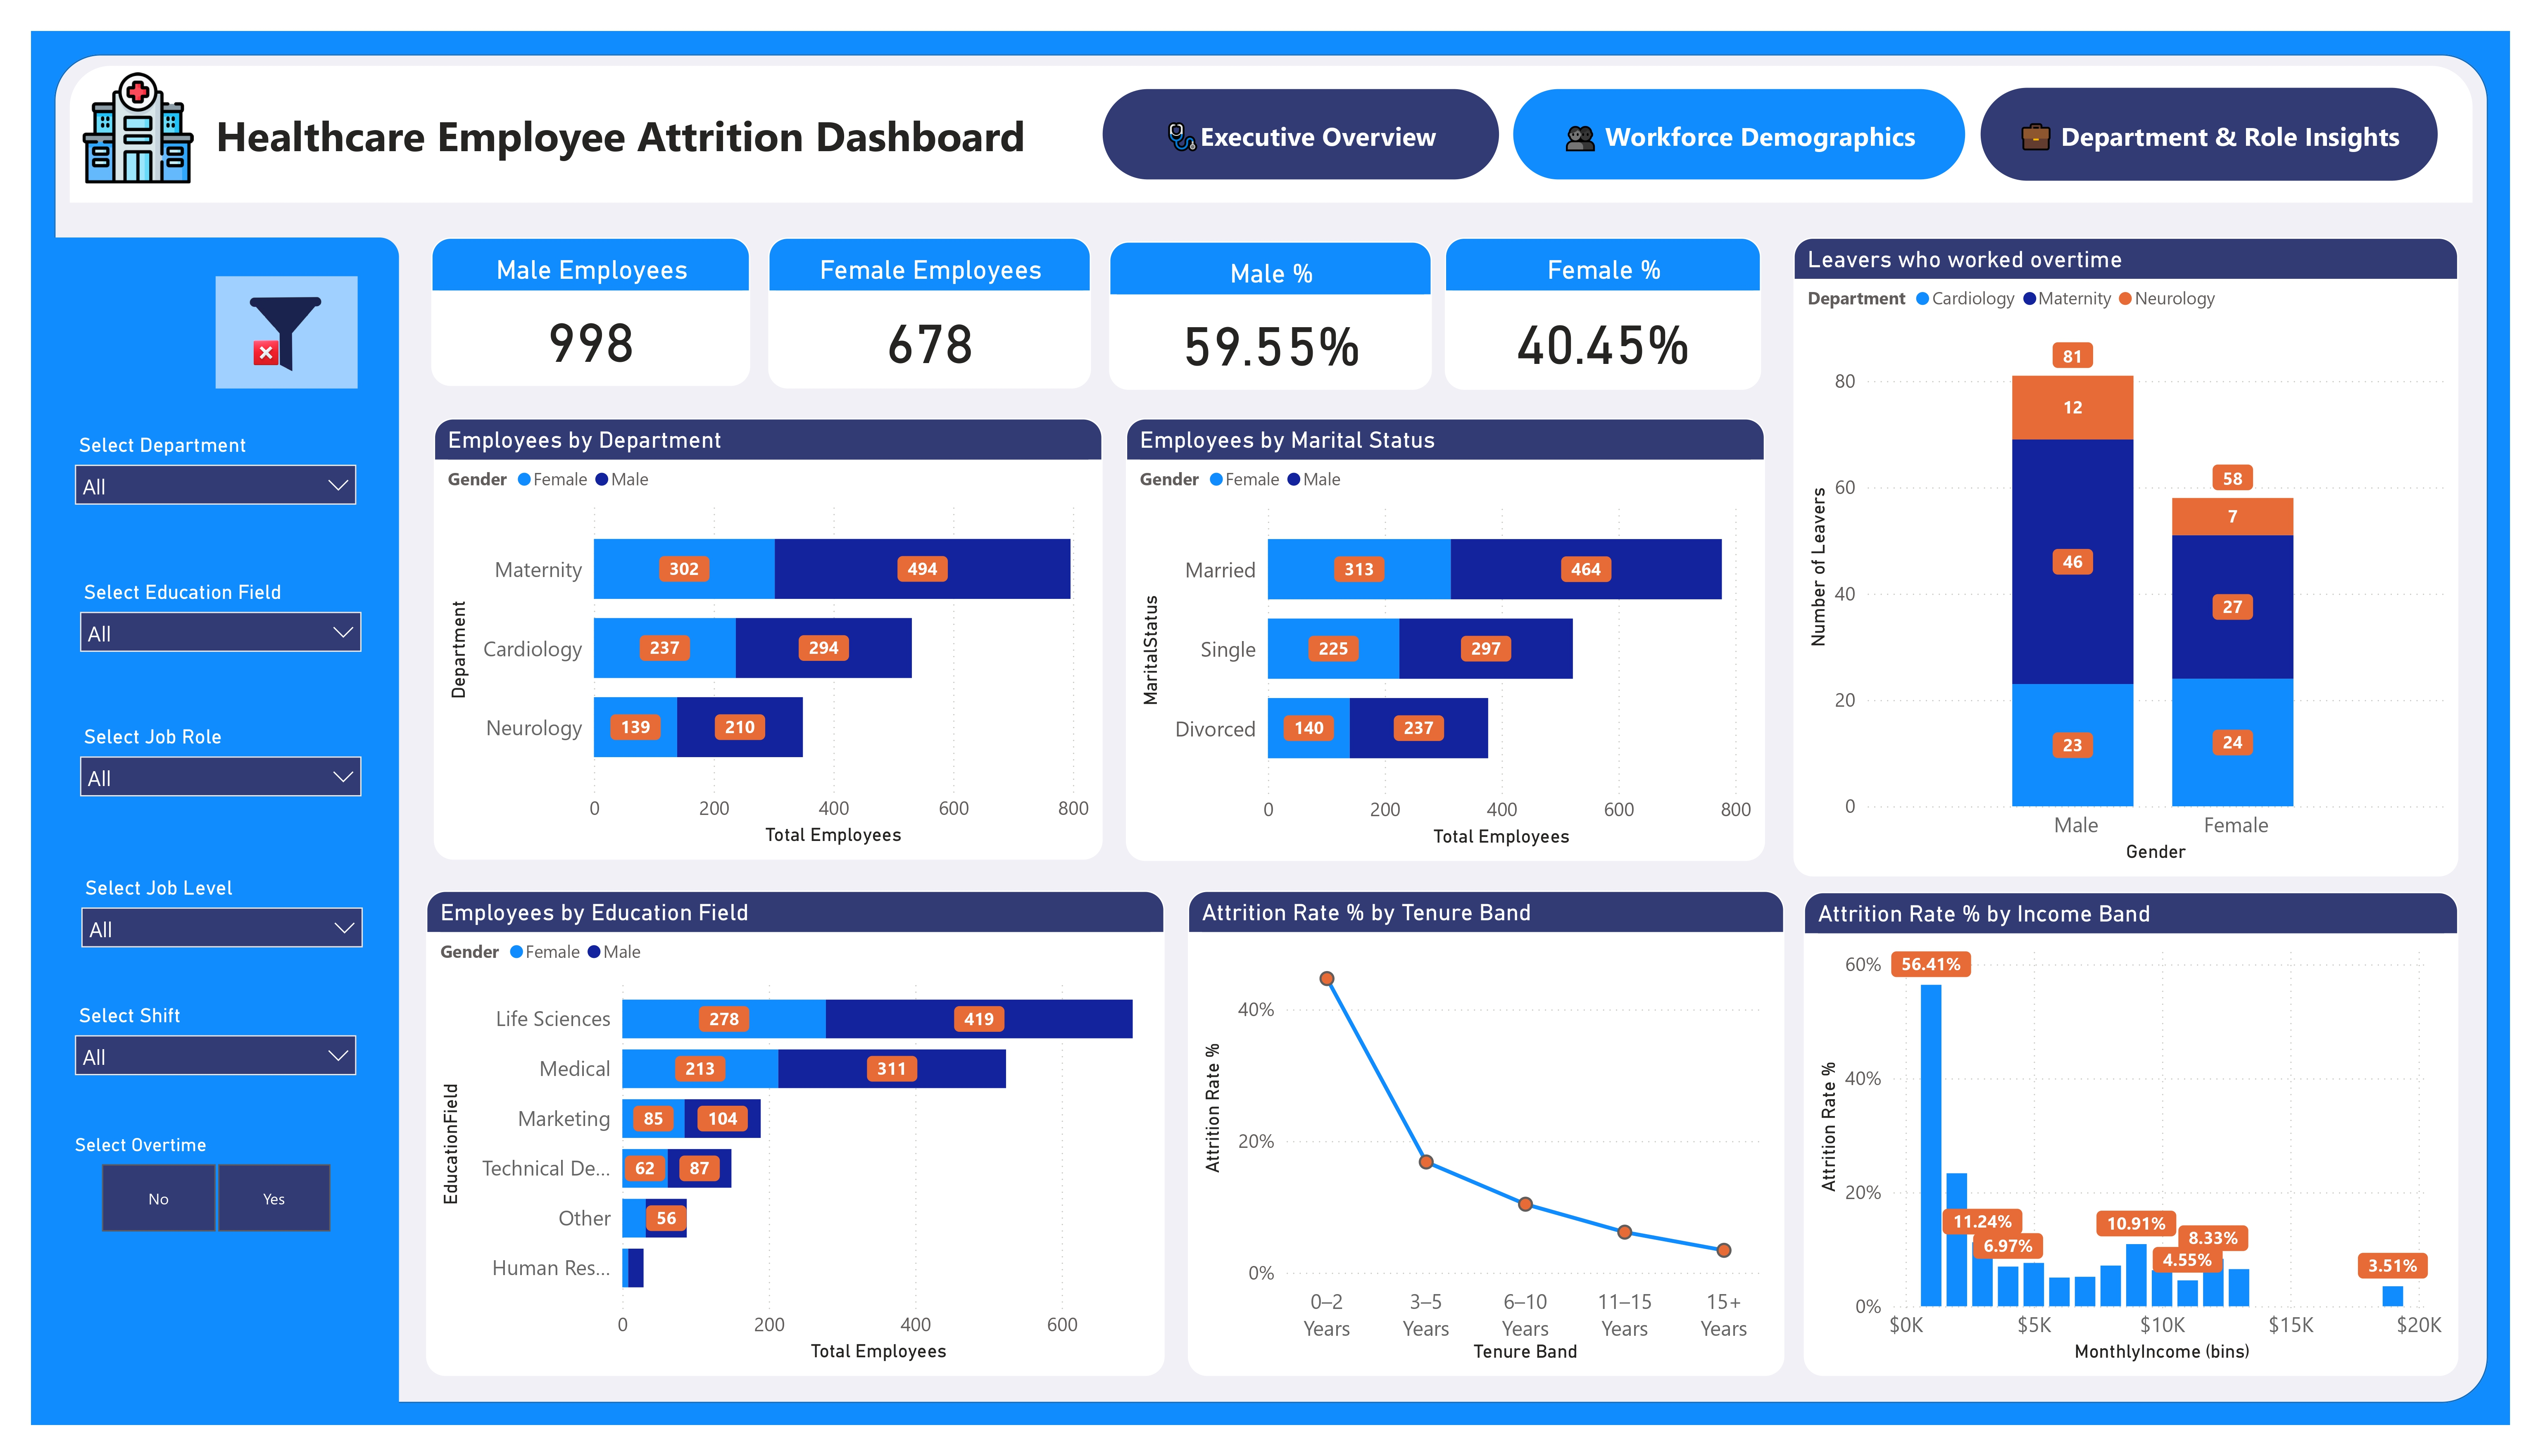

This screenshot's page, from the dashboard's own definition file:
{"tool":"powerbi","page":{"name":"Workforce Demographic","canvas":[1920,1080],"ordinal":1},"visuals":[{"type":"shape","box":[17.5,17.5,1885,1045],"z":0},{"type":"shape","box":[30,27.1,1861.4,105.7],"z":1000},{"type":"shape","box":[0,160,285,920],"z":2000},{"type":"card","title":"Male Employees","fields":{"Values":["Dim_Employee.Male Employees"]},"box":[310.1,160.5,247.2,114.9],"z":3000},{"type":"card","title":"Female Employees","fields":{"Values":["Dim_Employee.Female Employees"]},"box":[571.4,160,250,117.1],"z":4000},{"type":"card","title":"Male %","fields":{"Values":["Dim_Employee.Male %"]},"box":[835,162.5,250,115],"z":5000},{"type":"card","title":"Female %","fields":{"Values":["Dim_Employee.Female %"]},"box":[1095,160,245,117.5],"z":6000},{"type":"barChart","title":"Employees by Department","fields":{"Category":["Dim_Employee.Department"],"Series":["Dim_Employee.Gender"],"Y":["Fact_EmployeeAttrition.Total Employees"]},"box":[312,300,518,342],"z":7000},{"type":"barChart","title":"Employees by Marital Status","fields":{"Category":["Dim_Employee.MaritalStatus"],"Series":["Dim_Employee.Gender"],"Y":["Fact_EmployeeAttrition.Total Employees"]},"box":[847.5,300,495,342.5],"z":8000},{"type":"slicer","fields":{"Values":["Dim_Employee.Department"]},"box":[18.3,300,250,75],"z":9000},{"type":"slicer","fields":{"Values":["Dim_Employee.JobRole"]},"box":[22,526,250,76],"z":10000},{"type":"slicer","fields":{"Values":["Dim_Education.EducationField"]},"box":[22,414,250,76],"z":11000},{"type":"columnChart","title":"Leavers who worked overtime","fields":{"Category":["Dim_Employee.Gender"],"Series":["Dim_Employee.Department"],"Y":["Dim_Employee.Attrition Overtime"]},"box":[1365,160,515,495],"z":14000},{"type":"lineChart","title":"Attrition Rate % by Tenure Band","fields":{"Category":["Tenure Band Table.Tenure Band"],"Y":["Fact_EmployeeAttrition.Attrition Rate %"]},"box":[896,666,462,376],"z":15000},{"type":"columnChart","title":"Attrition Rate % by Income Band","fields":{"Category":["Fact_EmployeeAttrition.MonthlyIncome (bins)"],"Y":["Fact_EmployeeAttrition.Attrition Rate %"]},"box":[1373.3,666.7,506.7,375],"z":16000},{"type":"textbox","box":[137.5,52.5,740,55],"z":17000},{"type":"actionButton","box":[830,45,306.7,70],"z":18000},{"type":"actionButton","box":[1148.3,45,350,70],"z":19000},{"type":"actionButton","box":[1510,44.3,354.3,71.4],"z":20000},{"type":"slicer","fields":{"Values":["Dim_Employee.JoblevelLabel"]},"box":[22.5,642.5,250,75],"z":22000},{"type":"slicer","title":"Select Overtime","fields":{"Values":["Fact_EmployeeAttrition.OverTime"]},"box":[28,854,224,84],"z":23000},{"type":"barChart","title":"Employees by Education Field","fields":{"Category":["Dim_Education.EducationField"],"Series":["Dim_Employee.Gender"],"Y":["Fact_EmployeeAttrition.Total Employees"]},"box":[306,666,572,376],"z":24000},{"type":"image","box":[22.9,27.1,120,95.7],"z":27000},{"type":"image","box":[143.3,190,110,86.7],"z":28000},{"type":"slicer","fields":{"Values":["Dim_Employee.ShiftLabel"]},"box":[18,742,250,74],"z":29000}]}

Visuals, with their boxes on the page's 1920x1080 design canvas (x1, y1, x2, y2). These are canvas units, not pixel positions in the 2541x1456 screenshot, which may show the page scaled, cropped or inside an application window:
shape: 18/18/1902/1062
shape: 30/27/1891/133
shape: 0/160/285/1080
"Male Employees" card: 310/160/557/275
"Female Employees" card: 571/160/821/277
"Male %" card: 835/162/1085/278
"Female %" card: 1095/160/1340/278
"Employees by Department" barChart: 312/300/830/642
"Employees by Marital Status" barChart: 848/300/1342/642
slicer - Dim_Employee.Department: 18/300/268/375
slicer - Dim_Employee.JobRole: 22/526/272/602
slicer - Dim_Education.EducationField: 22/414/272/490
"Leavers who worked overtime" columnChart: 1365/160/1880/655
"Attrition Rate % by Tenure Band" lineChart: 896/666/1358/1042
"Attrition Rate % by Income Band" columnChart: 1373/667/1880/1042
textbox: 138/52/878/108
actionButton: 830/45/1137/115
actionButton: 1148/45/1498/115
actionButton: 1510/44/1864/116
slicer - Dim_Employee.JoblevelLabel: 22/642/272/718
"Select Overtime" slicer: 28/854/252/938
"Employees by Education Field" barChart: 306/666/878/1042
image: 23/27/143/123
image: 143/190/253/277
slicer - Dim_Employee.ShiftLabel: 18/742/268/816
